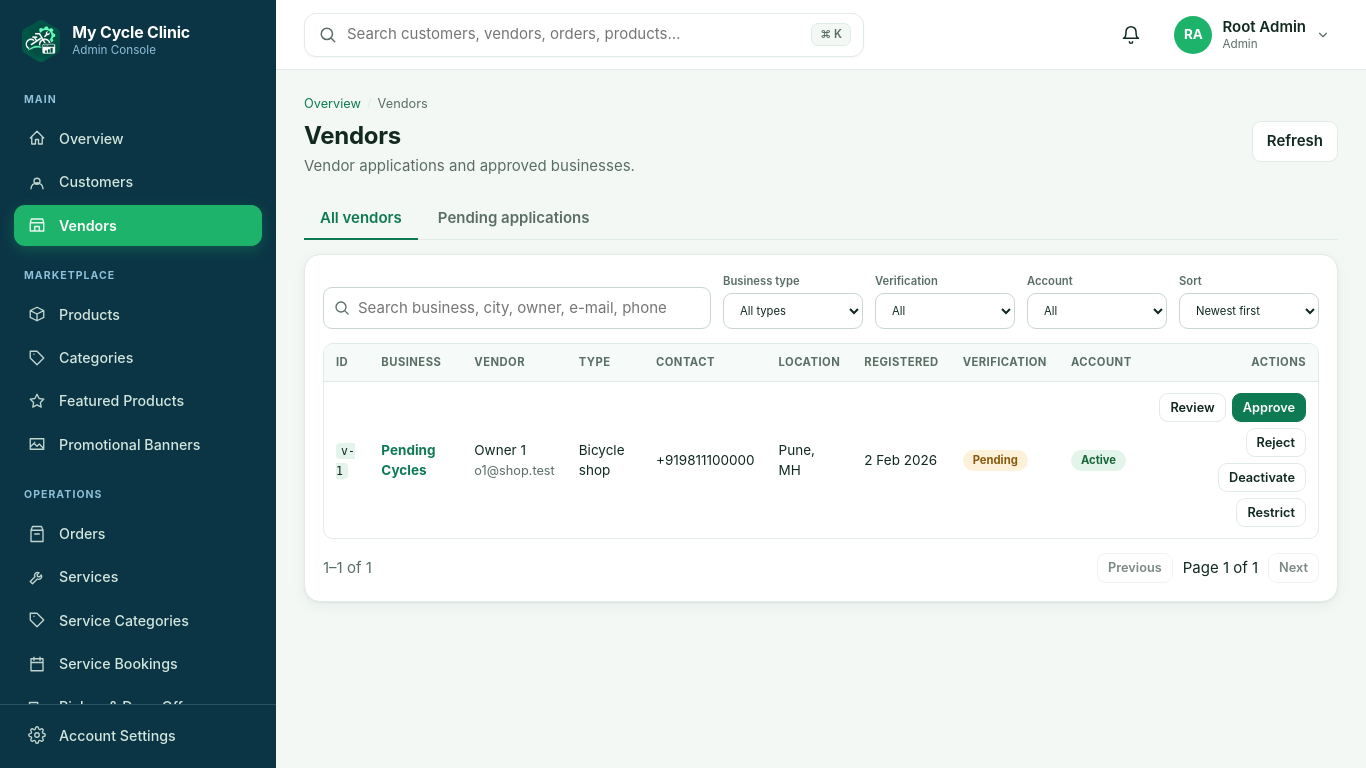
Test: vendor decisions › reject requires a reason of at least 3 characters and sends it to the backend
Click the button "Reject".
click(1276, 443)  # box [1246,428,1306,457]
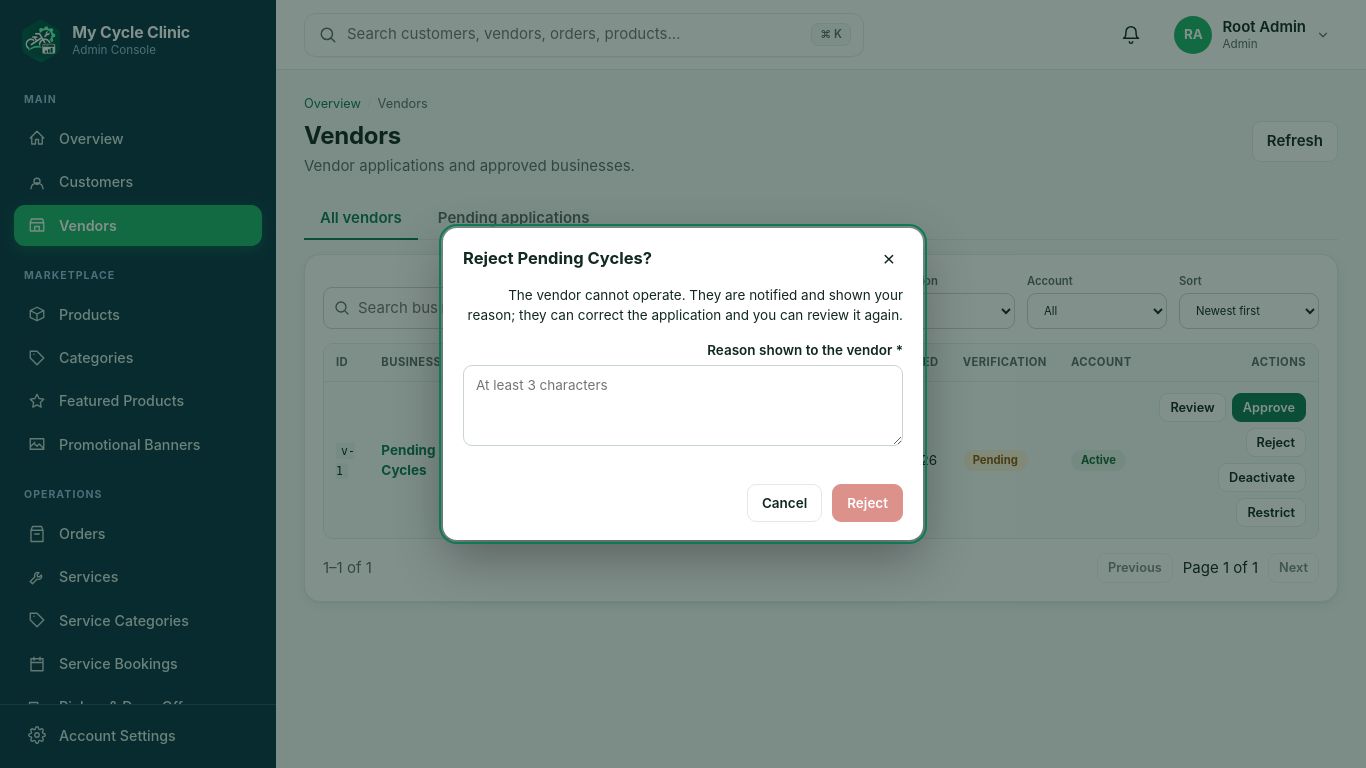
expect the button "Reject" below "Reason shown to the vendor" is disabled: met, box [832,484,903,522]
Type "ab" into the text box labelled "Reason shown to the vendor *".
click(683, 405); type("ab")  # box [463,365,903,446]
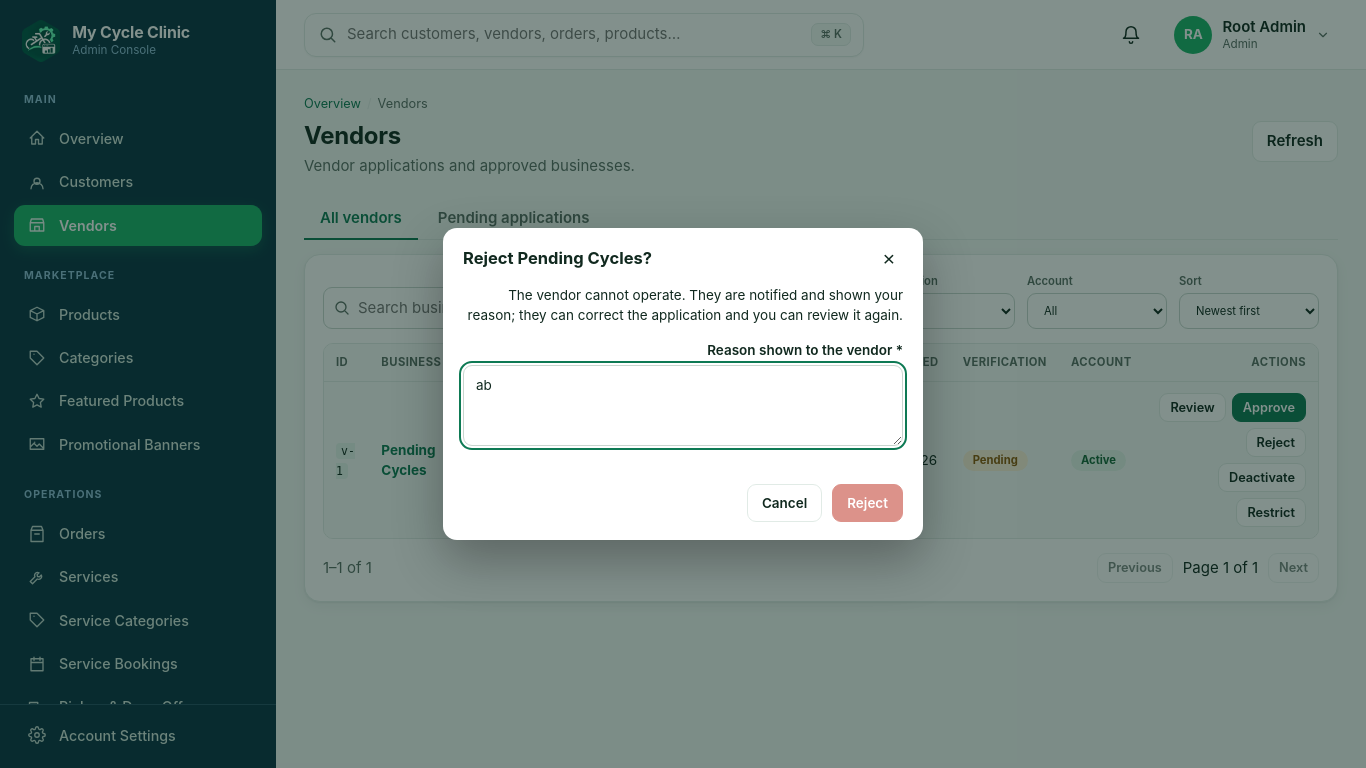
expect the button "Reject" below "Reason shown to the vendor" is disabled: met, box [832,484,903,522]
Type "c unclear photos" into the text box labelled "Reason shown to the vendor *".
click(683, 405); type("c unclear photos")  # box [463,365,903,446]
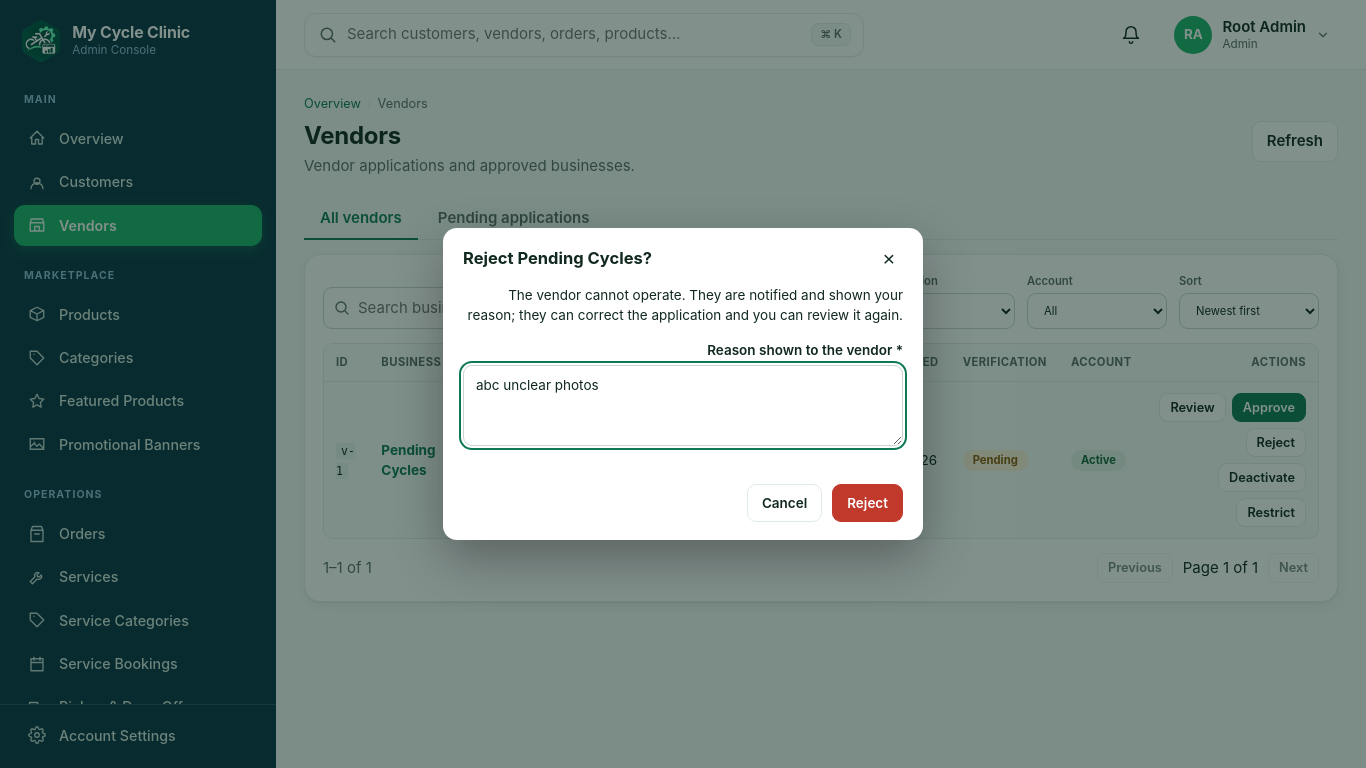
Click the button "Reject" below "Reason shown to the vendor".
click(868, 503)  # box [832,484,903,522]
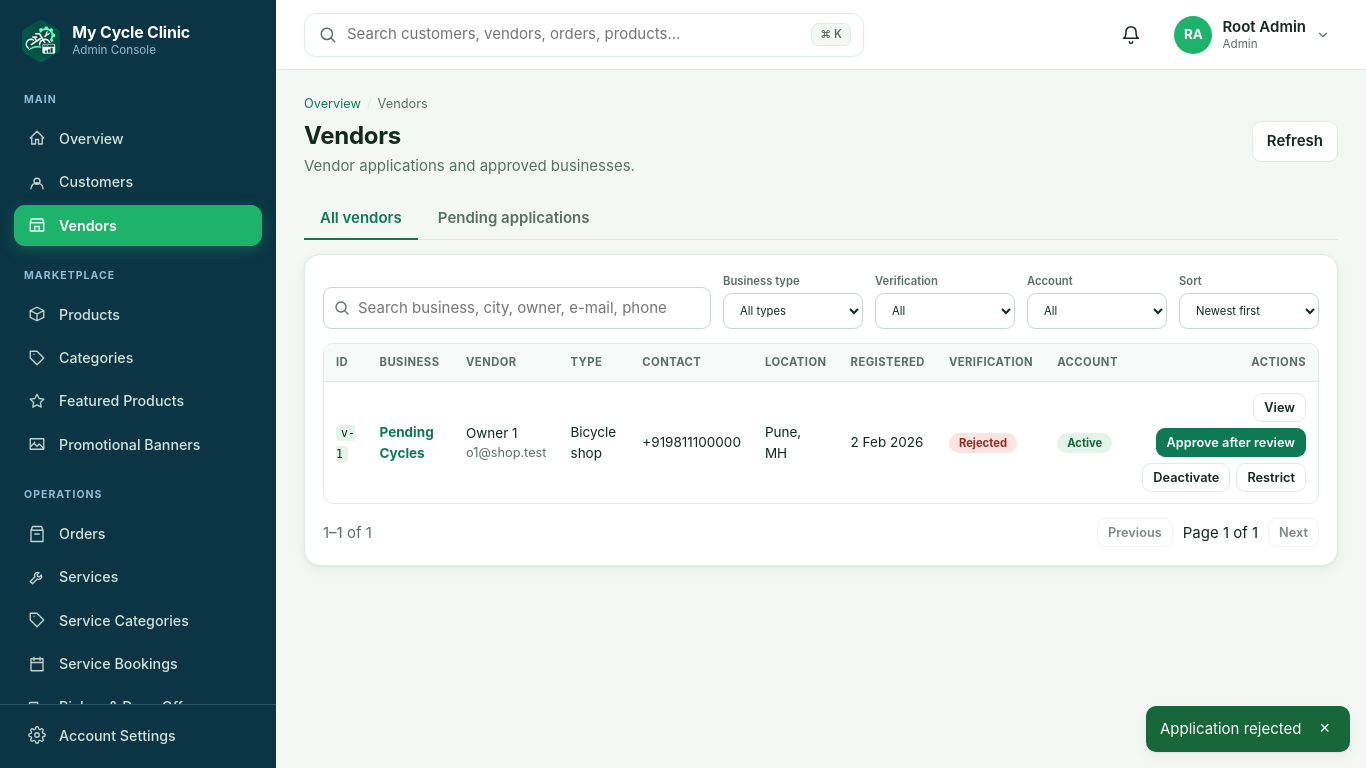
expect the text "Application rejected" is shown: met, box [1160,718,1302,740]
